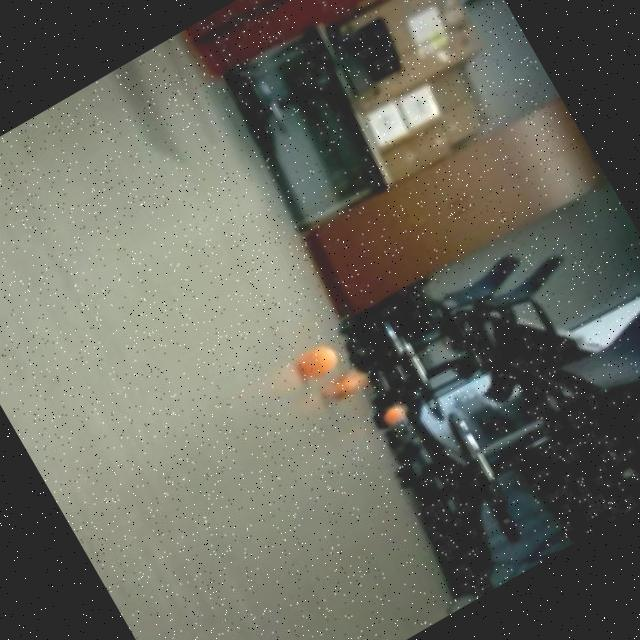ping-pong-ball: (293, 338, 344, 386), (322, 364, 370, 404), (376, 396, 416, 434)
